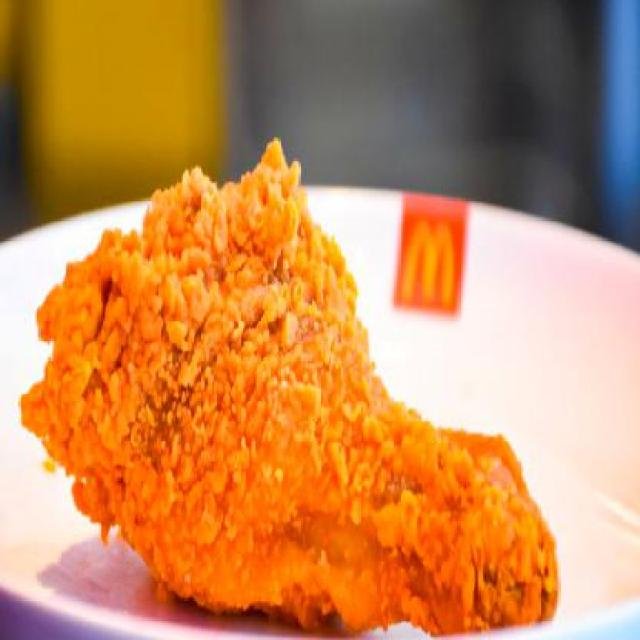Frango: (43, 139, 565, 632)
